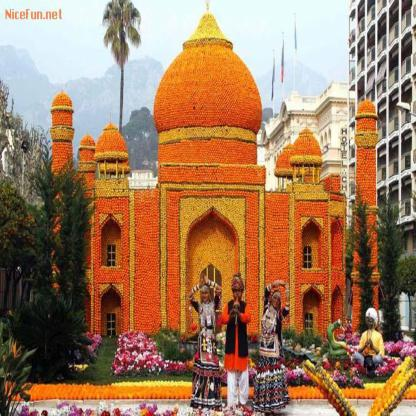face: (273, 297, 281, 309), (367, 317, 374, 330), (234, 289, 242, 300), (203, 292, 209, 301)
